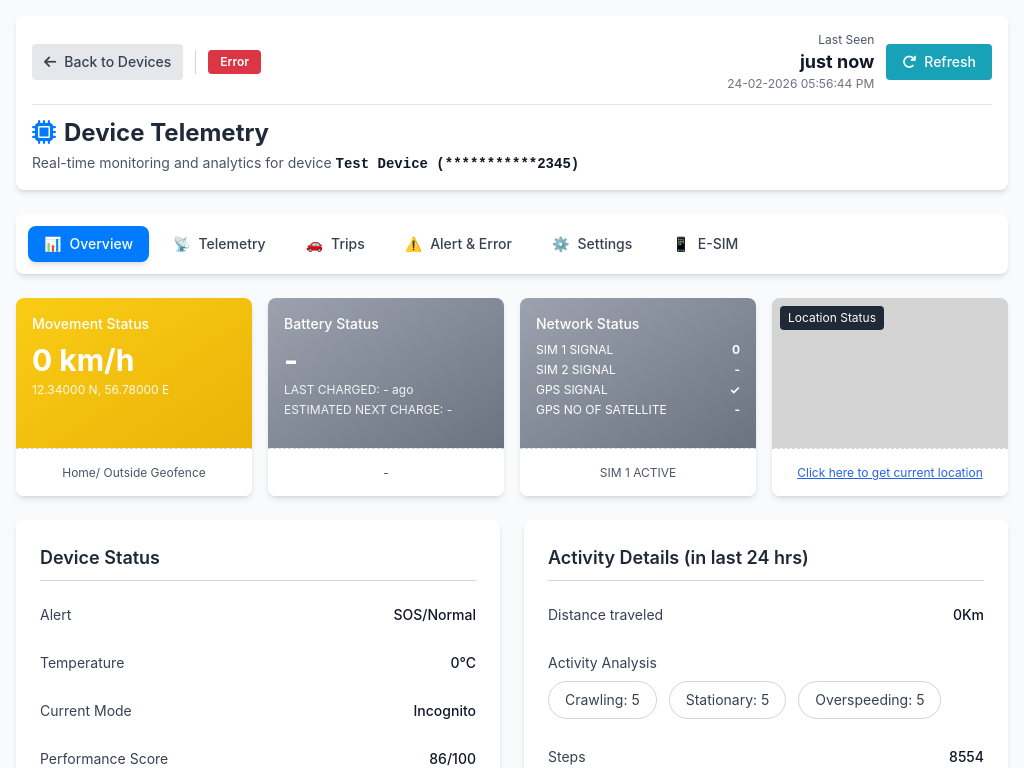
Test case: Bug Condition Exploration: Ambient Listen Toggle Status › Property 1.2: Toggle is ON when latest AMBIENT_STOP command has payload {"AmbientListen": "Start"}
Note: Navigate to Settings tab
Click the button "⚙️ Settings" at (592, 244), box [536,226,648,262]
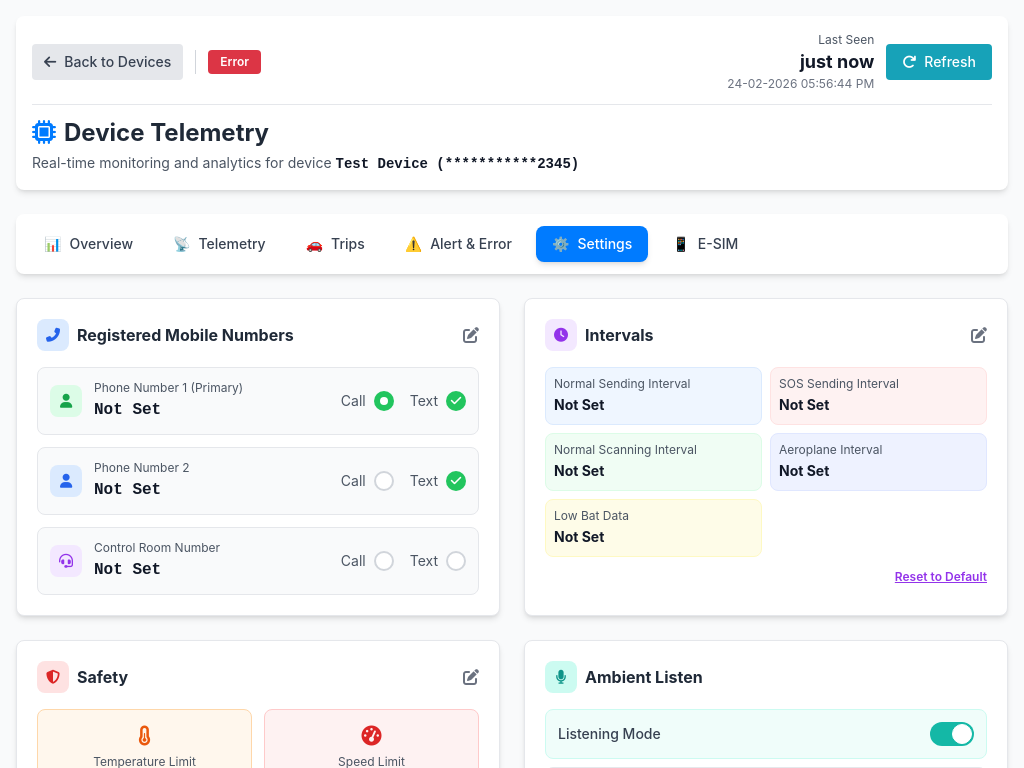
Expected: the heading "Ambient Listen" is shown, [545,661,703,693]
Expected: the checkbox is checked, [930,722,974,746]
